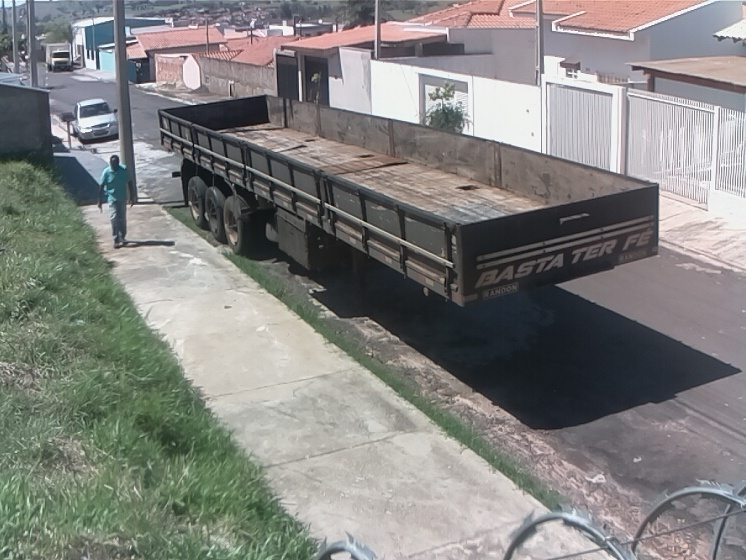person: (96, 150, 141, 249)
